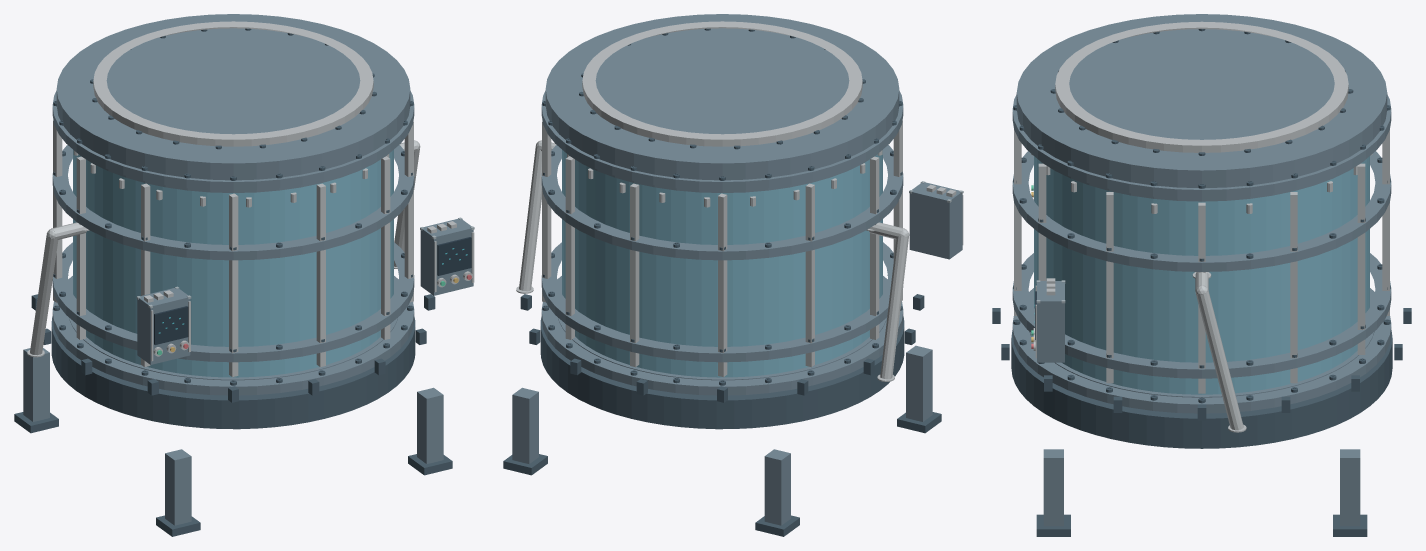
Rendered from 12_L78_CopperCapPECVDReactor.glb.
The picture shows the model from 3 angles, left to right: view 1: azimuth 30°, elevation 25°; view 2: azimuth 150°, elevation 25°; view 3: azimuth 270°, elevation 25°; orthographic projection. The views are drawn at different scales.
Visible parts, largest first — view 1: CopperCapPECVDReactor_Node_0319, CopperCapPECVDReactor_Node_0010, CopperCapPECVDReactor_Node_0008, CopperCapPECVDReactor_Node_0320, CopperCapPECVDReactor_Node_0157, CopperCapPECVDReactor_Node_0011, CopperCapPECVDReactor_Node_0084, CopperCapPECVDReactor_Node_0230, CopperCapPECVDReactor_Node_0367, CopperCapPECVDReactor_Node_0341, CopperCapPECVDReactor_Node_0002, CopperCapPECVDReactor_Node_0006 (+15 smaller); view 2: CopperCapPECVDReactor_Node_0319, CopperCapPECVDReactor_Node_0010, CopperCapPECVDReactor_Node_0008, CopperCapPECVDReactor_Node_0320, CopperCapPECVDReactor_Node_0157, CopperCapPECVDReactor_Node_0084, CopperCapPECVDReactor_Node_0011, CopperCapPECVDReactor_Node_0230, CopperCapPECVDReactor_Node_0341, CopperCapPECVDReactor_Node_0002, CopperCapPECVDReactor_Node_0000, CopperCapPECVDReactor_Node_0004 (+13 smaller); view 3: CopperCapPECVDReactor_Node_0319, CopperCapPECVDReactor_Node_0010, CopperCapPECVDReactor_Node_0008, CopperCapPECVDReactor_Node_0320, CopperCapPECVDReactor_Node_0157, CopperCapPECVDReactor_Node_0084, CopperCapPECVDReactor_Node_0011, CopperCapPECVDReactor_Node_0230, CopperCapPECVDReactor_Node_0367, CopperCapPECVDReactor_Node_0436, CopperCapPECVDReactor_Node_0004, CopperCapPECVDReactor_Node_0006 (+10 smaller).
Boxes of the visible parts, x1=… form: CopperCapPECVDReactor_Node_0319: x1=56, y1=14, x2=410, y2=192; CopperCapPECVDReactor_Node_0010: x1=73, y1=150, x2=393, y2=377; CopperCapPECVDReactor_Node_0008: x1=51, y1=316, x2=415, y2=429; CopperCapPECVDReactor_Node_0320: x1=93, y1=21, x2=373, y2=146; CopperCapPECVDReactor_Node_0157: x1=52, y1=145, x2=414, y2=260; CopperCapPECVDReactor_Node_0011: x1=52, y1=276, x2=414, y2=395; CopperCapPECVDReactor_Node_0084: x1=52, y1=242, x2=414, y2=362; CopperCapPECVDReactor_Node_0230: x1=52, y1=91, x2=414, y2=190; CopperCapPECVDReactor_Node_0367: x1=420, y1=218, x2=473, y2=295; CopperCapPECVDReactor_Node_0341: x1=137, y1=288, x2=190, y2=364; CopperCapPECVDReactor_Node_0002: x1=165, y1=449, x2=191, y2=525; CopperCapPECVDReactor_Node_0006: x1=417, y1=387, x2=443, y2=463; CopperCapPECVDReactor_Node_0319: x1=545, y1=14, x2=899, y2=192; CopperCapPECVDReactor_Node_0010: x1=562, y1=150, x2=882, y2=377; CopperCapPECVDReactor_Node_0008: x1=540, y1=316, x2=904, y2=429; CopperCapPECVDReactor_Node_0320: x1=582, y1=21, x2=862, y2=146; CopperCapPECVDReactor_Node_0157: x1=541, y1=145, x2=903, y2=260; CopperCapPECVDReactor_Node_0084: x1=541, y1=242, x2=903, y2=362; CopperCapPECVDReactor_Node_0011: x1=541, y1=276, x2=903, y2=395; CopperCapPECVDReactor_Node_0230: x1=541, y1=91, x2=903, y2=190; CopperCapPECVDReactor_Node_0341: x1=909, y1=182, x2=962, y2=259; CopperCapPECVDReactor_Node_0002: x1=906, y1=345, x2=932, y2=421; CopperCapPECVDReactor_Node_0000: x1=764, y1=449, x2=790, y2=525; CopperCapPECVDReactor_Node_0004: x1=512, y1=387, x2=538, y2=463; CopperCapPECVDReactor_Node_0319: x1=1016, y1=14, x2=1387, y2=201; CopperCapPECVDReactor_Node_0010: x1=1034, y1=156, x2=1369, y2=394; CopperCapPECVDReactor_Node_0008: x1=1011, y1=330, x2=1392, y2=448; CopperCapPECVDReactor_Node_0320: x1=1055, y1=21, x2=1348, y2=152; CopperCapPECVDReactor_Node_0157: x1=1012, y1=151, x2=1391, y2=271; CopperCapPECVDReactor_Node_0084: x1=1012, y1=253, x2=1391, y2=378; CopperCapPECVDReactor_Node_0011: x1=1012, y1=288, x2=1391, y2=413; CopperCapPECVDReactor_Node_0230: x1=1012, y1=94, x2=1391, y2=199; CopperCapPECVDReactor_Node_0367: x1=1037, y1=281, x2=1064, y2=362; CopperCapPECVDReactor_Node_0436: x1=1195, y1=290, x2=1243, y2=430; CopperCapPECVDReactor_Node_0004: x1=1340, y1=449, x2=1360, y2=526; CopperCapPECVDReactor_Node_0006: x1=1043, y1=449, x2=1063, y2=526.
Size of the model in its own units: 4.25 by 3.93 by 3.92.
